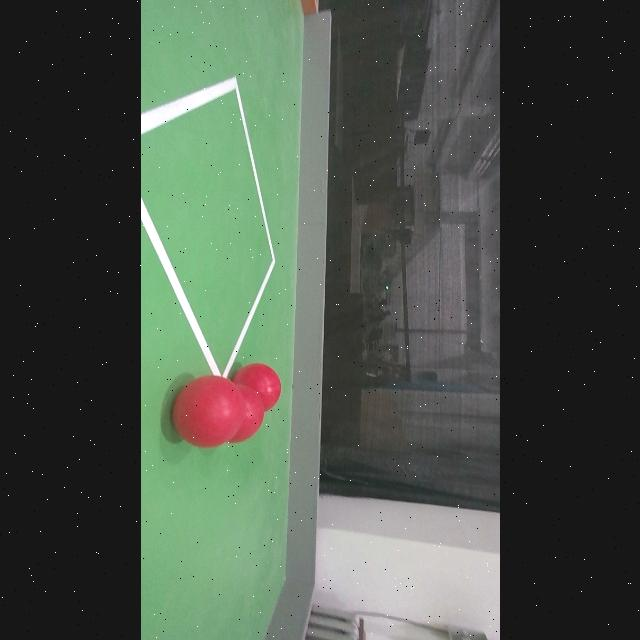R: (172, 376, 246, 448), (217, 369, 267, 443), (234, 362, 276, 408)
